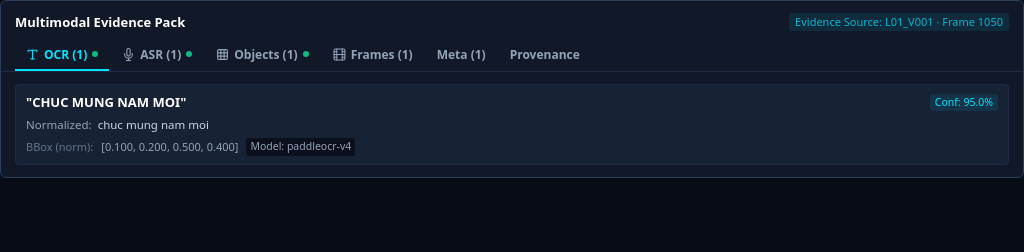
T034 / T035 Evidence Rendering & Provenance UI › renders ASR transcripts with timestamps and word tokens
The width and height of the screenshot is (1024, 252).
Click the tab with test id "tab-evidence-asr" at (157, 55), box [111, 40, 203, 71]
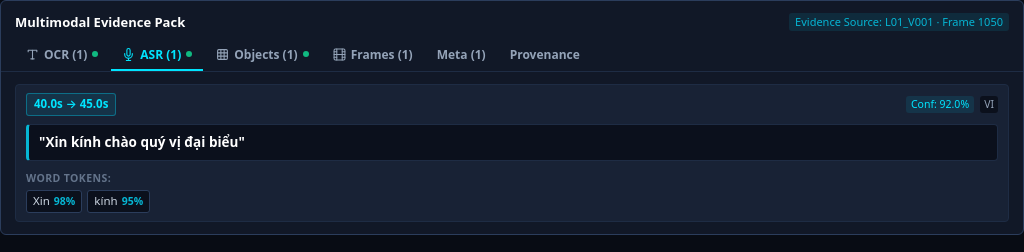
Now the element with test id "pane-evidence-asr" is shown, box [15, 84, 1009, 222]
Now the text "40.0s → 45.0s" is shown, box [26, 93, 116, 116]
Now the text "\"Xin kính chào quý vị đại biểu\"" is shown, box [39, 132, 245, 150]
